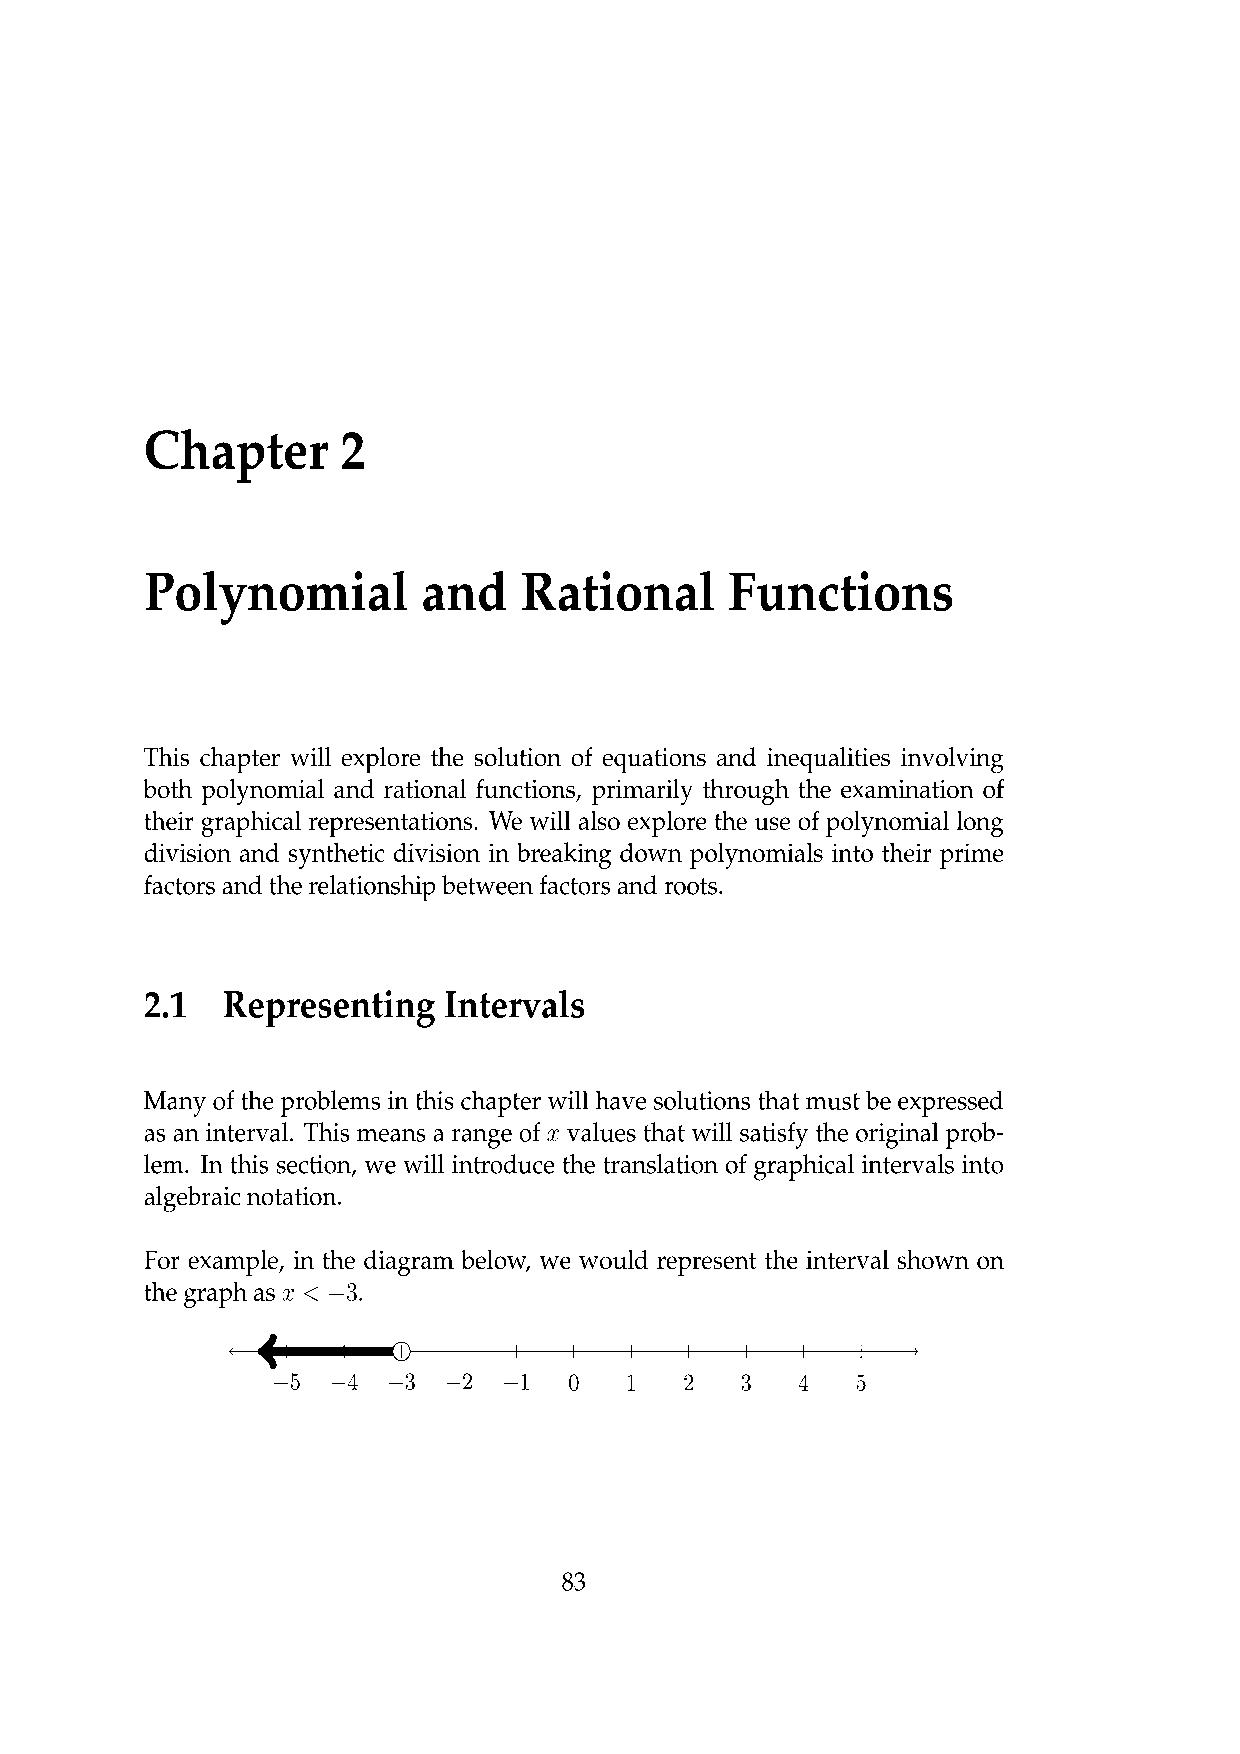chapter: (142, 425, 955, 627), (142, 986, 586, 1032)
content: (140, 1086, 1006, 1397), (140, 743, 1006, 905)
content_pagenumber: (558, 1567, 588, 1597)
